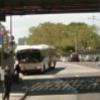buses: (14, 44, 57, 75)
